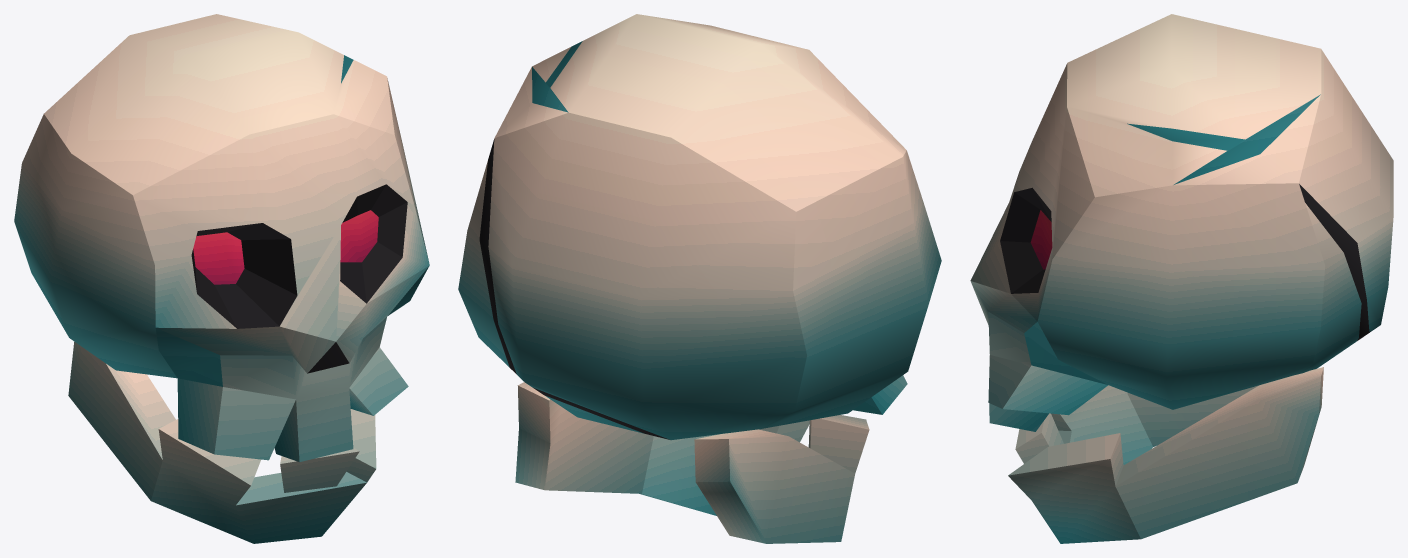
Rendered from Skull_Jaw.fbx.
3 views of the same model, side by side, from view 1: azimuth 30°, elevation 25°; view 2: azimuth 150°, elevation 25°; view 3: azimuth 270°, elevation 25° (orthographic). The views are drawn at different scales.
Parts seen in each view (by area): view 1: pCube25; view 2: pCube25; view 3: pCube25.
Part boxes in pixels (x1,y1,x2,y2): pCube25: (14,14,429,543); pCube25: (458,14,941,543); pCube25: (970,14,1393,543).
Size of the model in its own units: 1.16 by 1.4 by 1.09.
